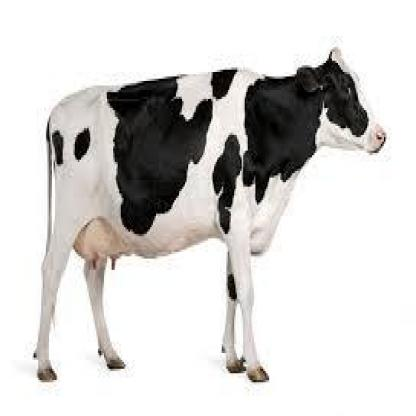cow: (38, 48, 388, 381)
